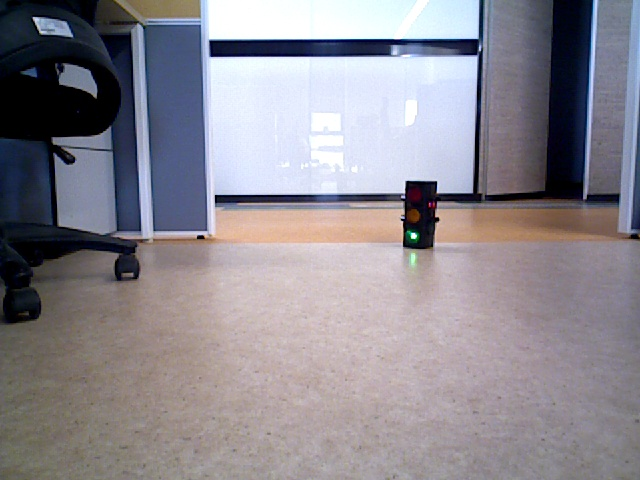green: (405, 183, 430, 243)
